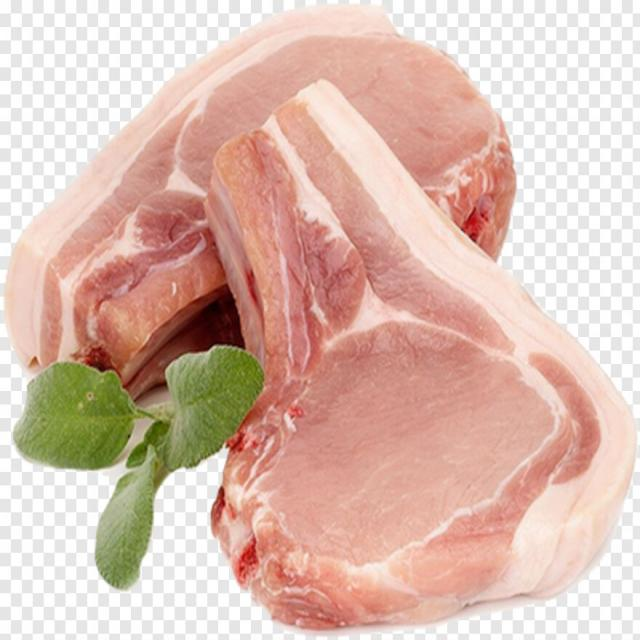Pork: (192, 78, 631, 635)
